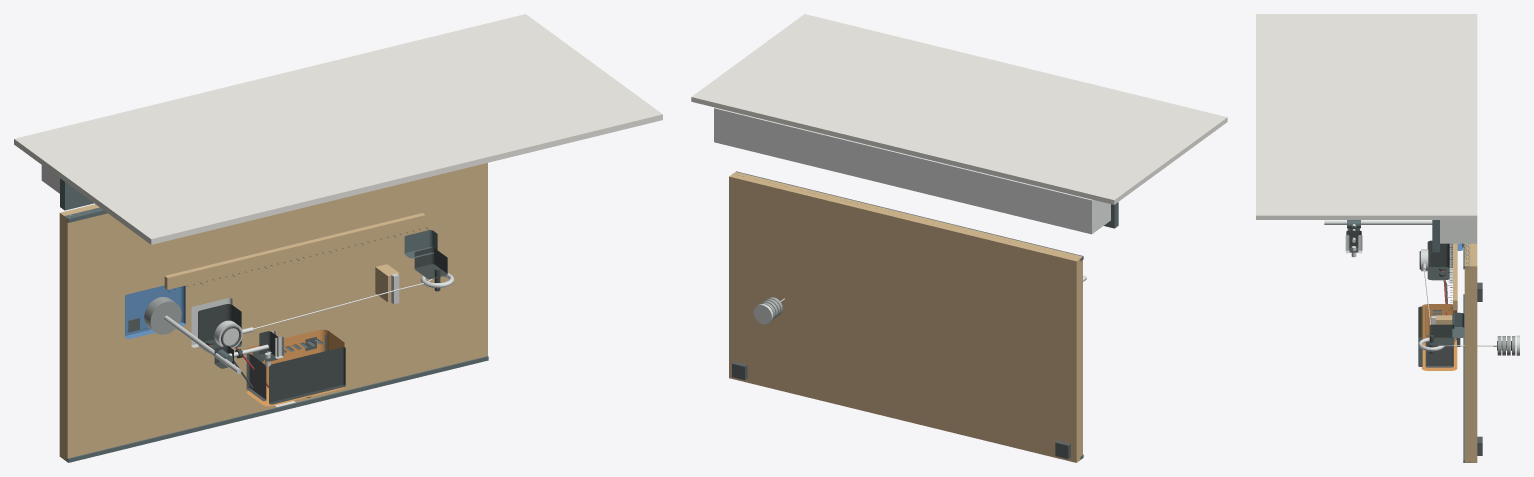
File: rp01-standing-waves.glb
The picture shows the model from 3 angles, left to right: view 1: azimuth 30°, elevation 25°; view 2: azimuth 150°, elevation 25°; view 3: azimuth 270°, elevation 25°; orthographic projection. The views are drawn at different scales.
Parts seen in each view (by area): view 1: Laboratory background wall, Laboratory bench laminate, Metre rule, Signal generator top shell, Laboratory bench dark edge, Retort stand blue base, Signal generator, Vibration generator black body, 2 kg stand counterweight, Pulley black fork, Signal generator left bumper, Pulley G clamp; view 2: Laboratory bench laminate, Laboratory background wall, Laboratory background cabinet carcass; view 3: Laboratory background wall, Laboratory bench laminate, Signal generator, Laboratory background cabinet carcass, Vibration generator black body, Signal generator right bumper, Pulley black fork, Retort stand vertical rod, Metre rule, Laboratory bench dark edge, Pulley G clamp.
Part boxes in pixels (x1,y1,x2,y2): Laboratory background wall: [14, 14, 662, 244]; Laboratory bench laminate: [59, 163, 487, 461]; Metre rule: [164, 213, 425, 289]; Signal generator top shell: [269, 347, 345, 404]; Laboratory bench dark edge: [64, 356, 488, 462]; Retort stand blue base: [125, 285, 185, 338]; Signal generator: [246, 329, 344, 406]; Vibration generator black body: [198, 304, 241, 352]; 2 kg stand counterweight: [144, 297, 181, 334]; Pulley black fork: [414, 248, 447, 279]; Signal generator left bumper: [246, 353, 266, 401]; Pulley G clamp: [404, 230, 437, 258]; Laboratory bench laminate: [729, 172, 1082, 462]; Laboratory background wall: [691, 14, 1227, 204]; Laboratory background cabinet carcass: [714, 107, 1110, 234]; Laboratory background wall: [1256, 14, 1477, 219]; Laboratory bench laminate: [1464, 220, 1477, 462]; Signal generator: [1421, 304, 1457, 370]; Laboratory background cabinet carcass: [1440, 220, 1476, 243]; Vibration generator black body: [1427, 240, 1449, 280]; Signal generator right bumper: [1425, 341, 1453, 367]; Pulley black fork: [1429, 324, 1454, 345]; Retort stand vertical rod: [1324, 220, 1432, 224]; Metre rule: [1453, 243, 1457, 310]; Laboratory bench dark edge: [1463, 294, 1470, 462]; Pulley G clamp: [1452, 313, 1464, 337].
Bounding box in the file's own units: 11.2 × 6.88 × 6.2.
